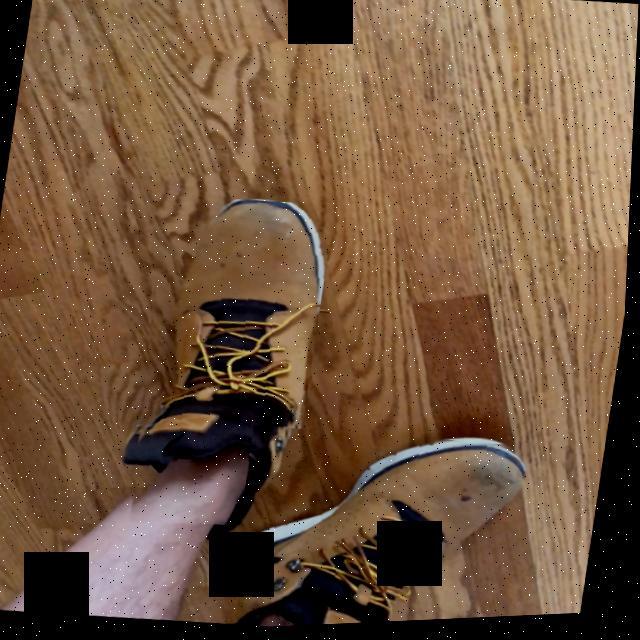shoe: (139, 202, 328, 528), (241, 445, 530, 629)
